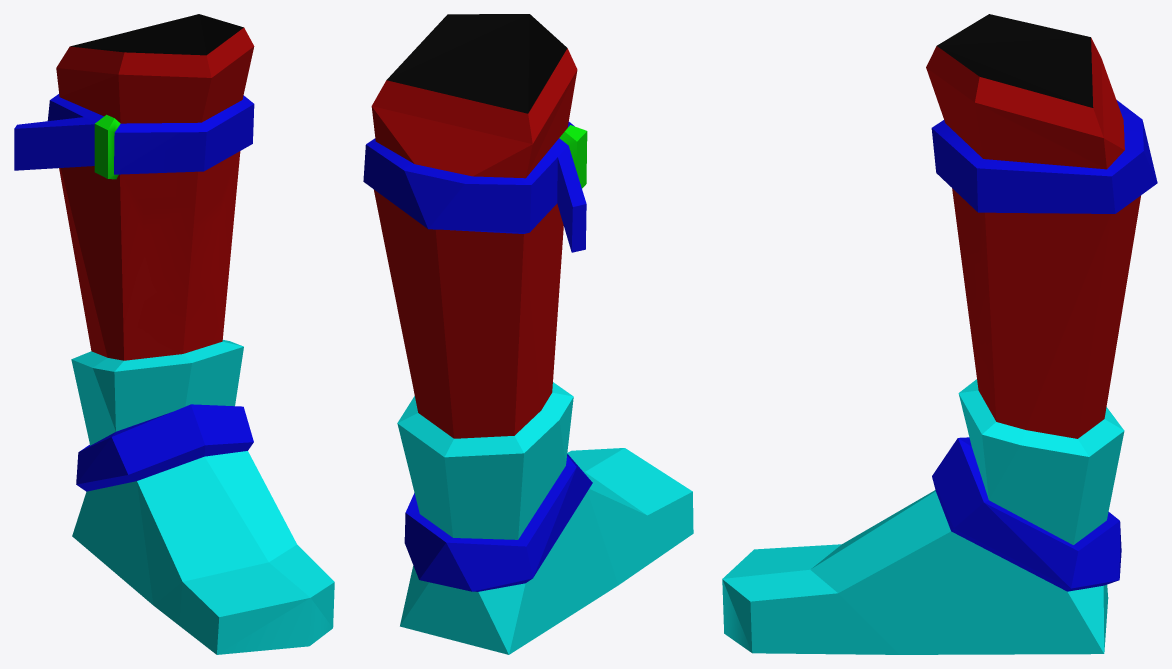
File: Chr_LegLeft_Male_Static_11.fbx
3 renders of one model, left to right at view 1: azimuth 30°, elevation 25°; view 2: azimuth 150°, elevation 25°; view 3: azimuth 270°, elevation 25°, orthographic. The views are drawn at different scales.
Visible parts, largest first — view 1: Chr_LegLeft_Male_11; view 2: Chr_LegLeft_Male_11; view 3: Chr_LegLeft_Male_11.
Part boxes in pixels (bbox=[...]): Chr_LegLeft_Male_11: bbox=[14, 14, 334, 654]; Chr_LegLeft_Male_11: bbox=[363, 14, 693, 654]; Chr_LegLeft_Male_11: bbox=[722, 14, 1157, 654].
Bounding box in the file's own units: 15.87 × 40.4 × 27.32.
